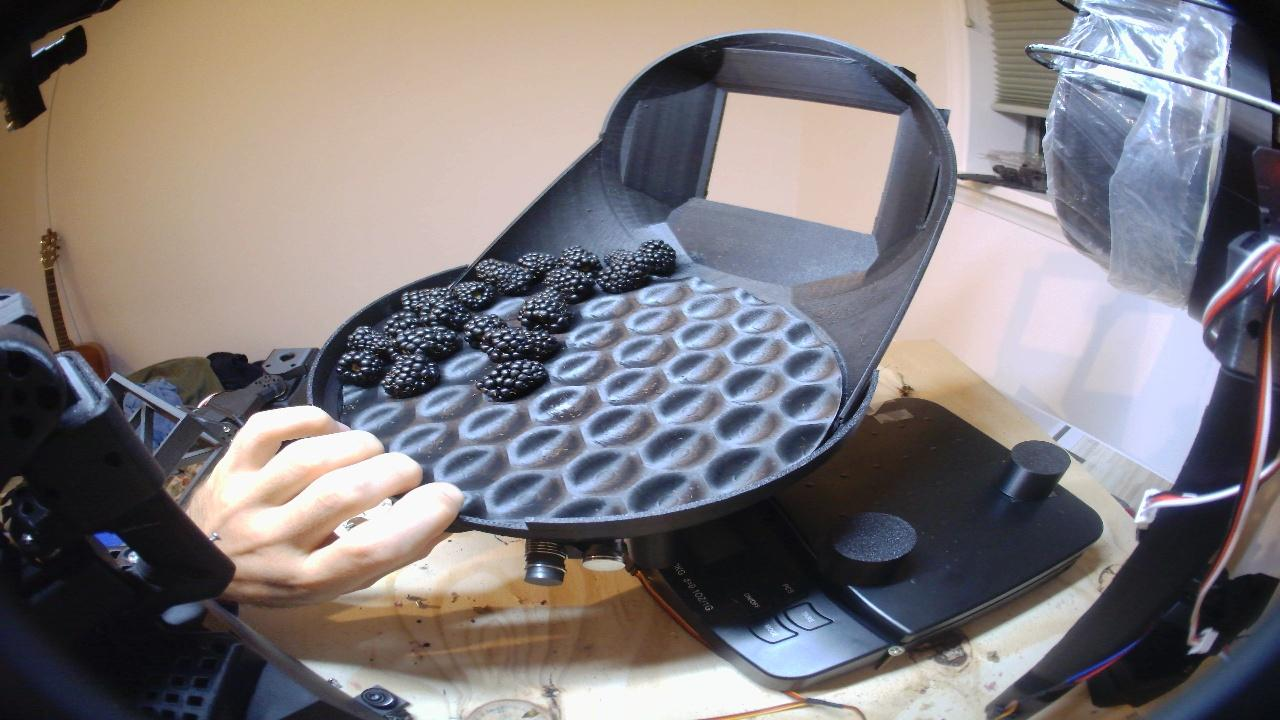berry: (476, 359, 547, 401), (480, 329, 558, 362), (381, 354, 439, 397), (390, 325, 461, 360), (520, 289, 572, 331), (597, 251, 649, 293), (478, 259, 534, 294), (337, 349, 386, 386), (544, 267, 593, 302), (462, 314, 508, 348), (422, 299, 470, 329), (451, 281, 496, 311), (638, 240, 676, 275), (383, 310, 428, 338), (348, 326, 392, 353), (559, 246, 601, 273), (516, 252, 556, 280), (402, 287, 451, 309), (605, 249, 633, 264)
